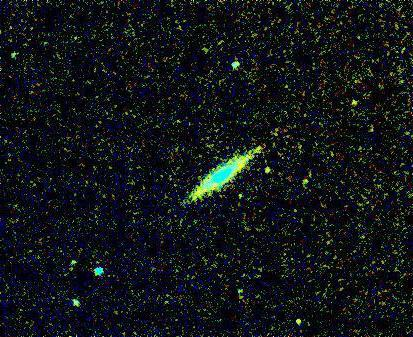star: (343, 87, 373, 117)
